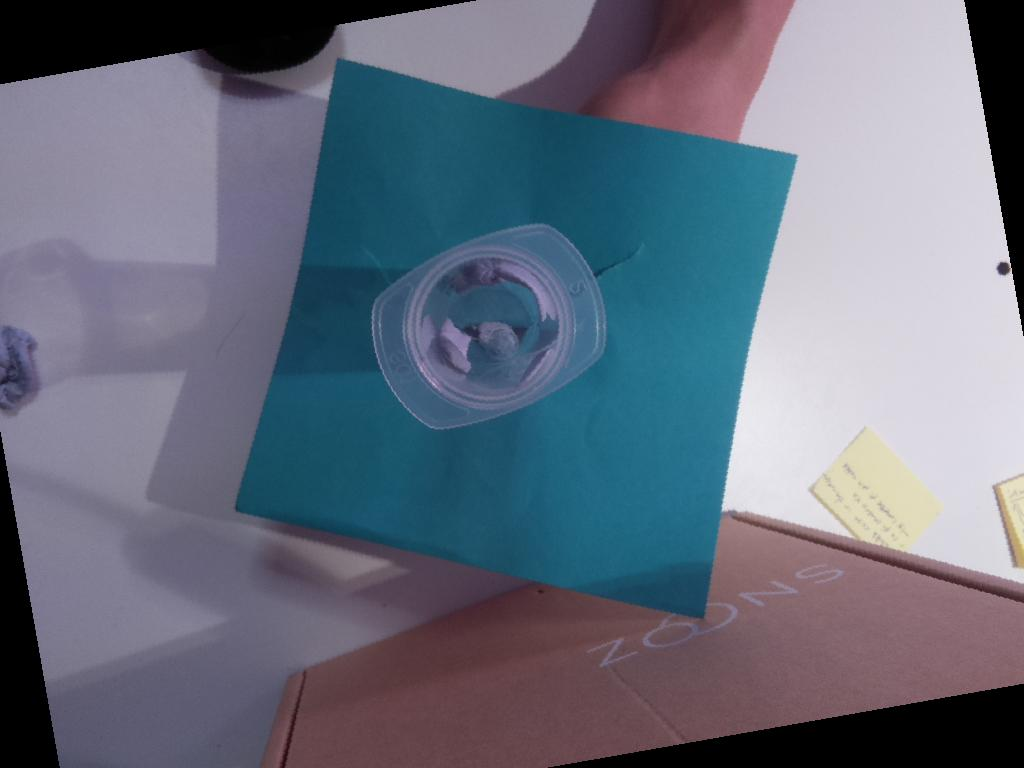dirty: (370, 223, 606, 430)
